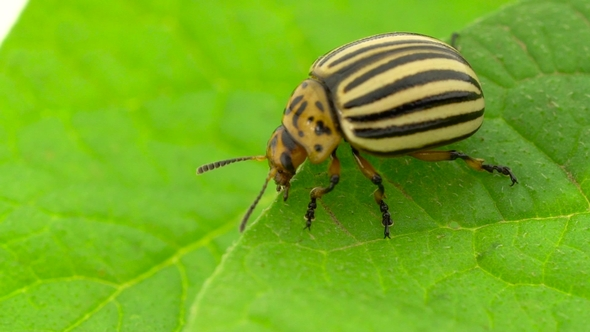hrosc: (257, 26, 509, 238)
